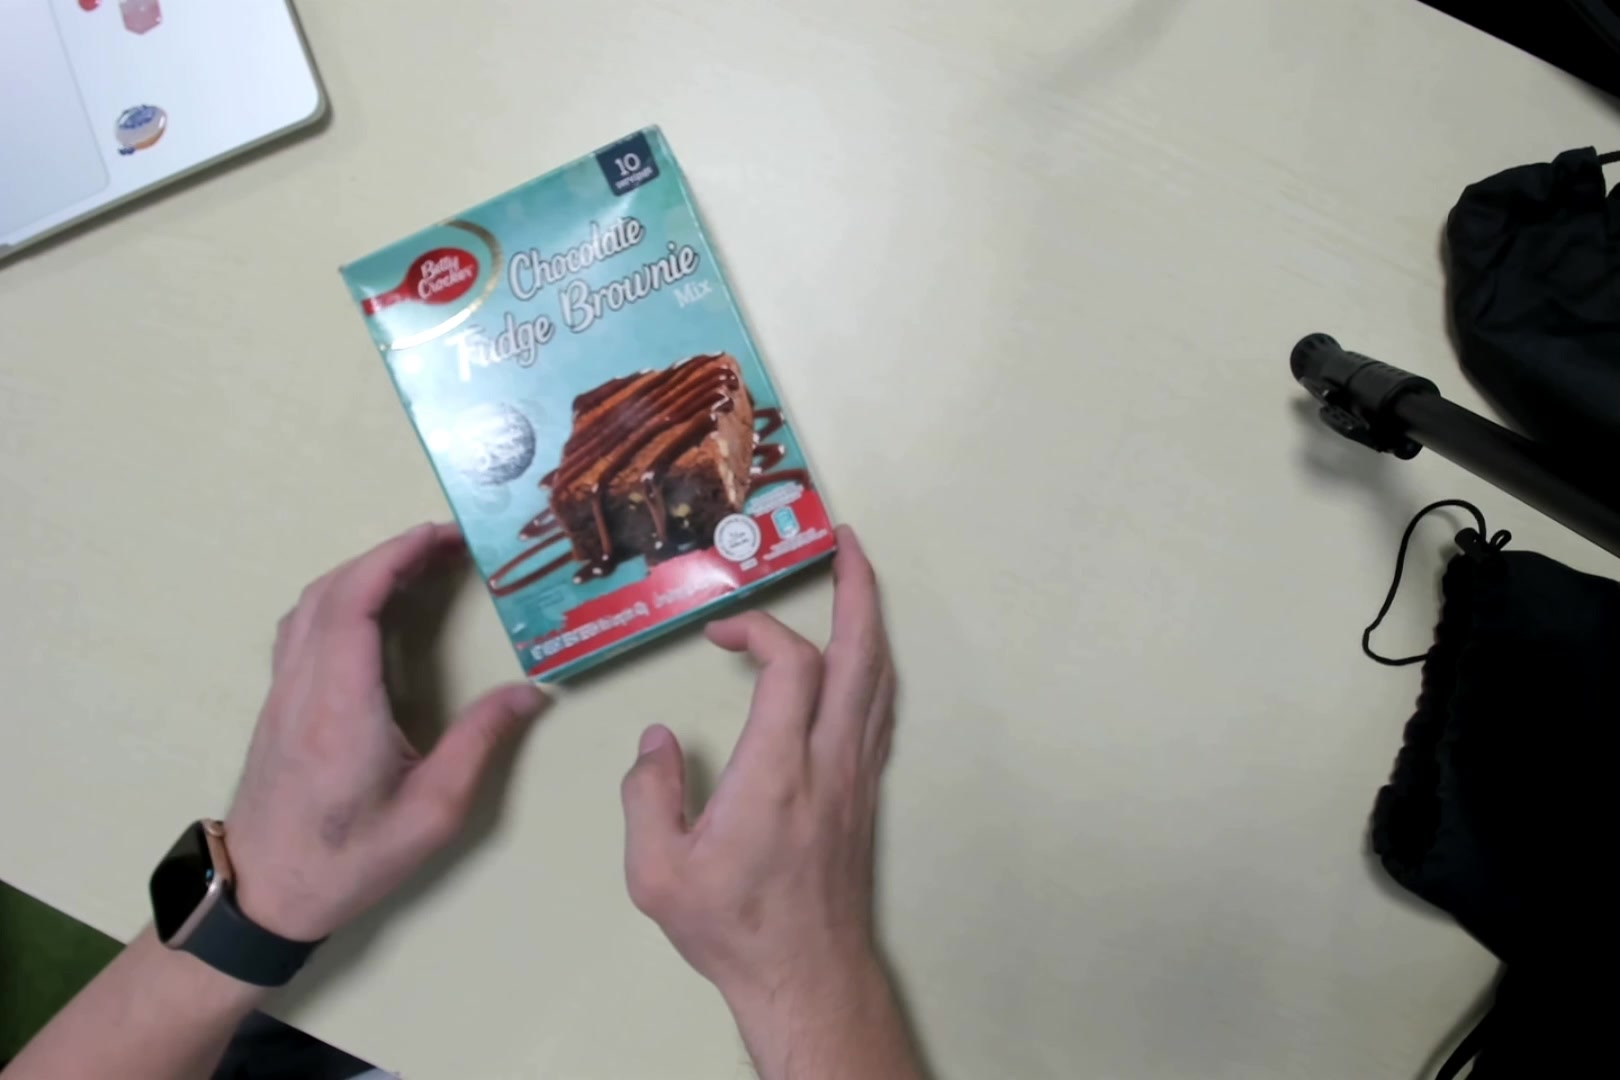OtherBakingNeeds_400-499g_Halal_NonHealthy: (331, 123, 841, 694)
